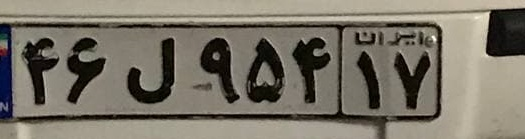character: (116, 31, 189, 113), (191, 31, 245, 112), (61, 30, 113, 111), (242, 30, 289, 112), (287, 30, 333, 113), (15, 34, 62, 113), (390, 48, 434, 115), (348, 47, 386, 115)
